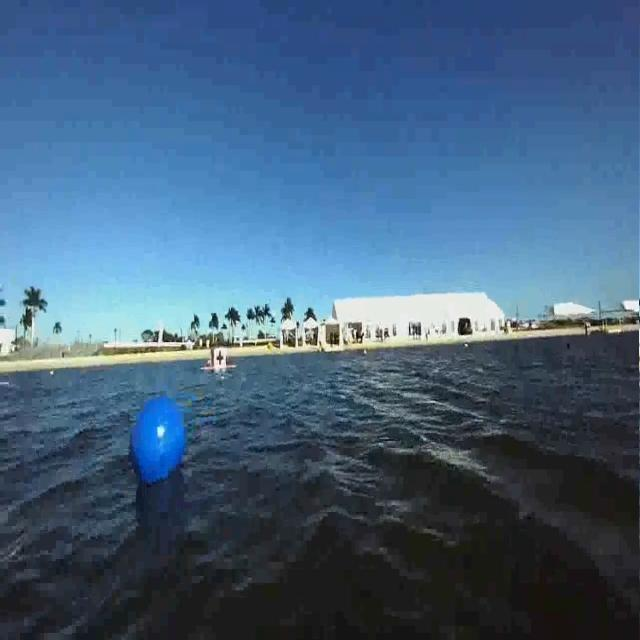blue-buoy: (130, 390, 192, 491)
